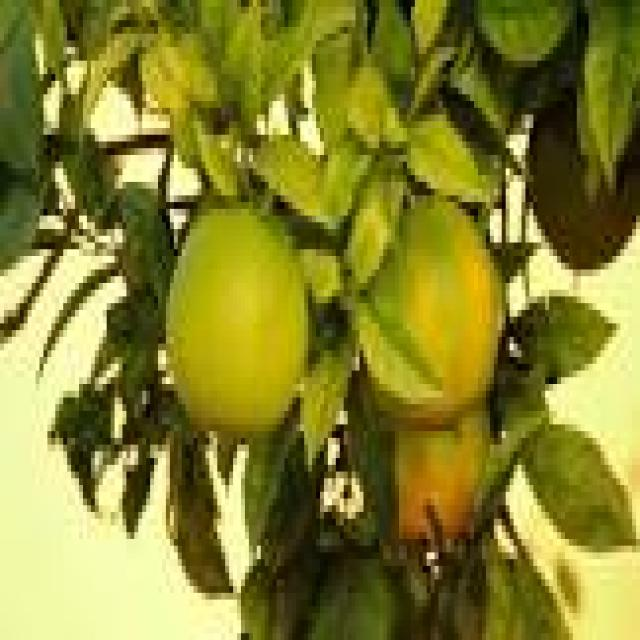orange: (166, 206, 306, 438), (370, 202, 506, 426)
